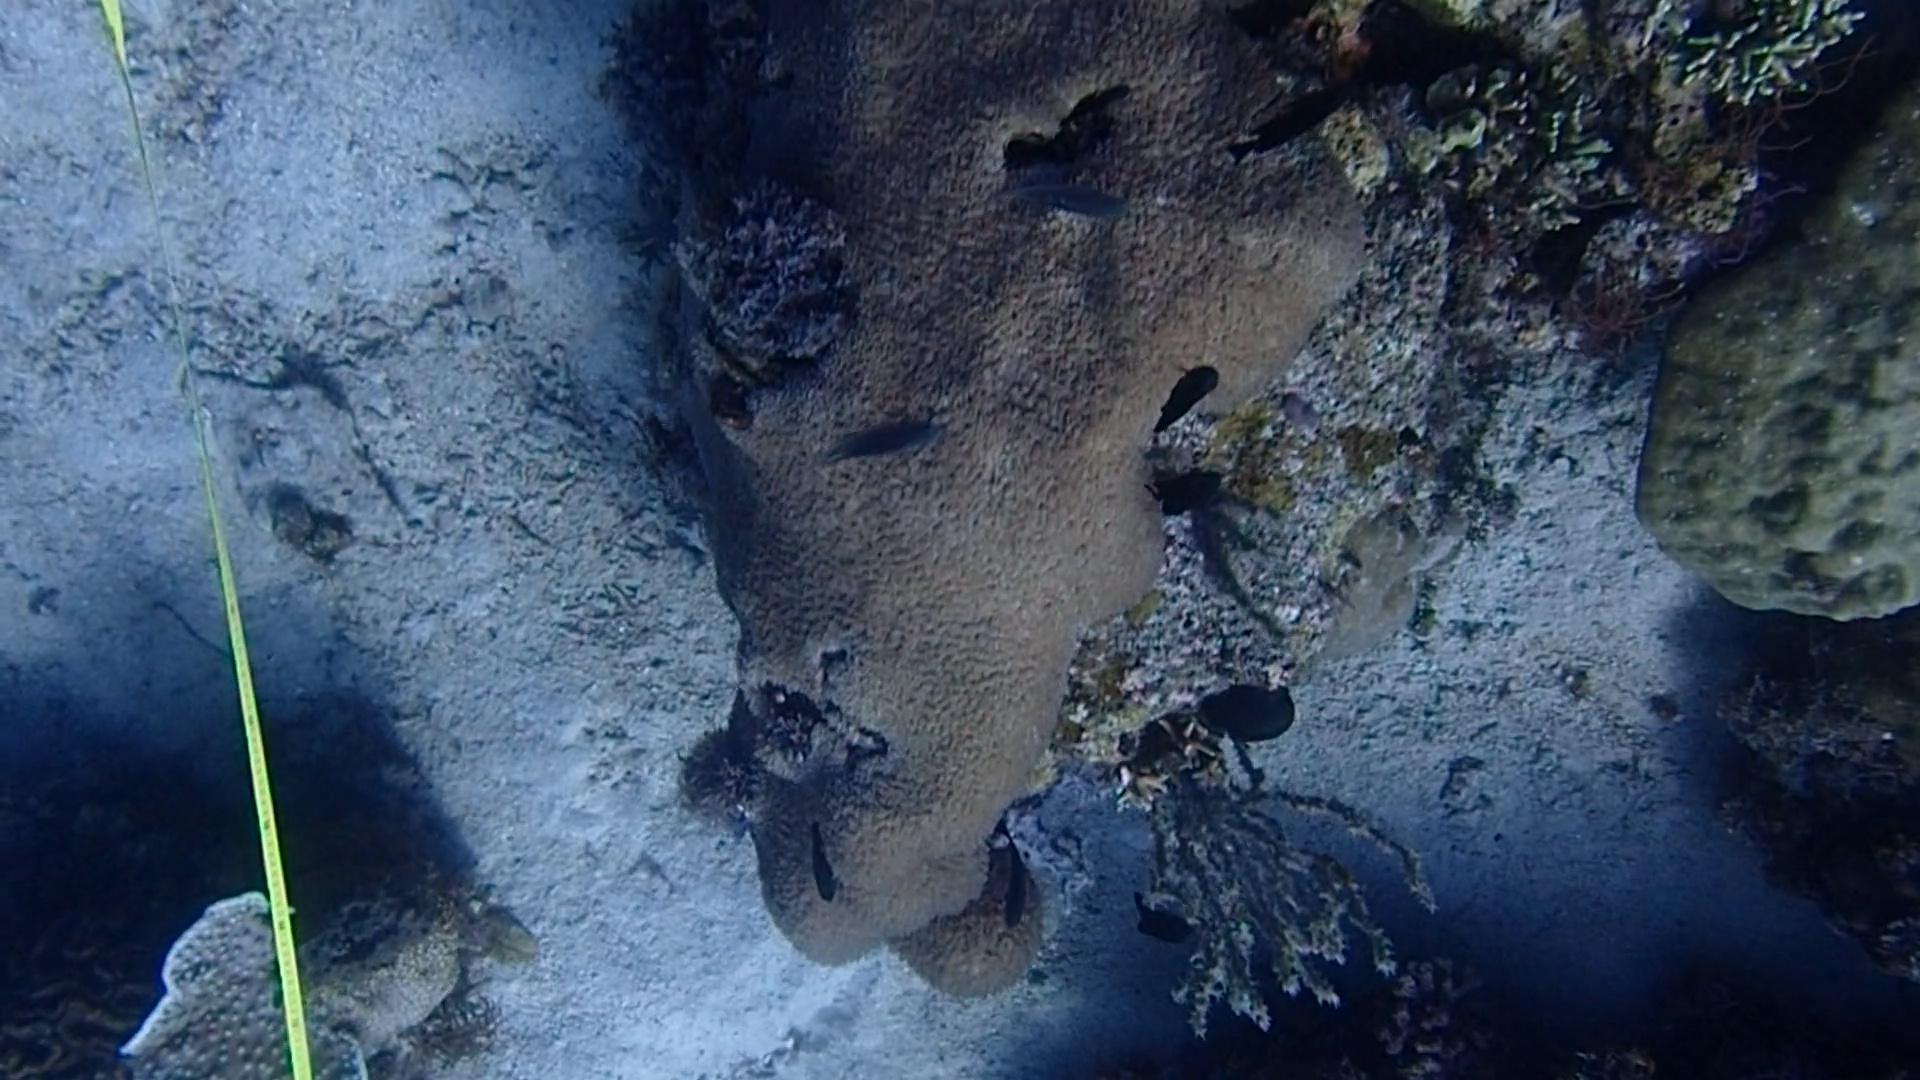Dark Fish: (1222, 74, 1361, 165), (1137, 355, 1238, 443), (980, 829, 1052, 939), (782, 822, 855, 914), (1114, 895, 1200, 961), (1138, 469, 1230, 530)
Light Fish: (1001, 156, 1135, 237), (827, 406, 953, 479)
